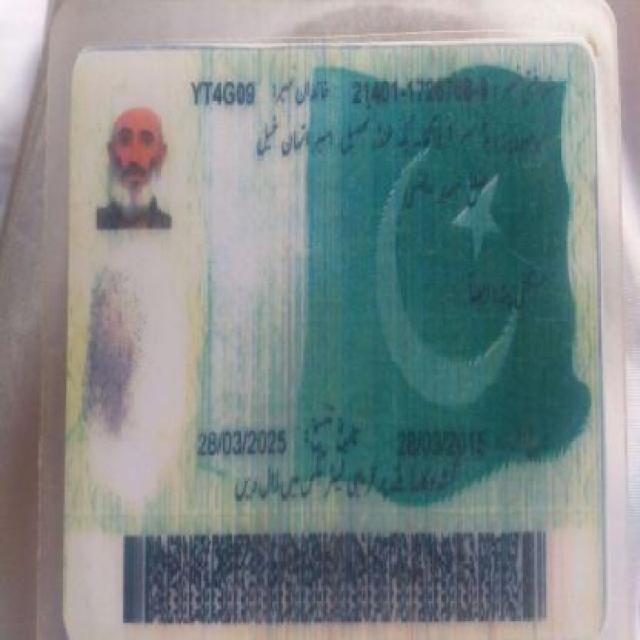Back: (59, 31, 606, 631)
